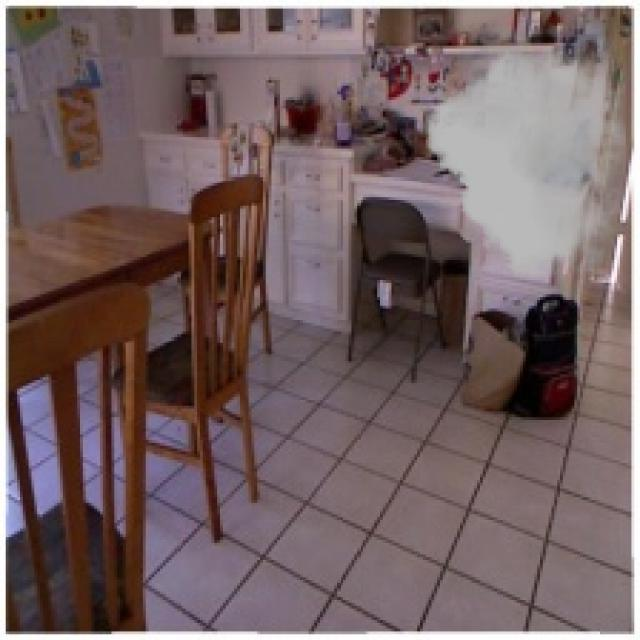smoke: (426, 17, 626, 283)
